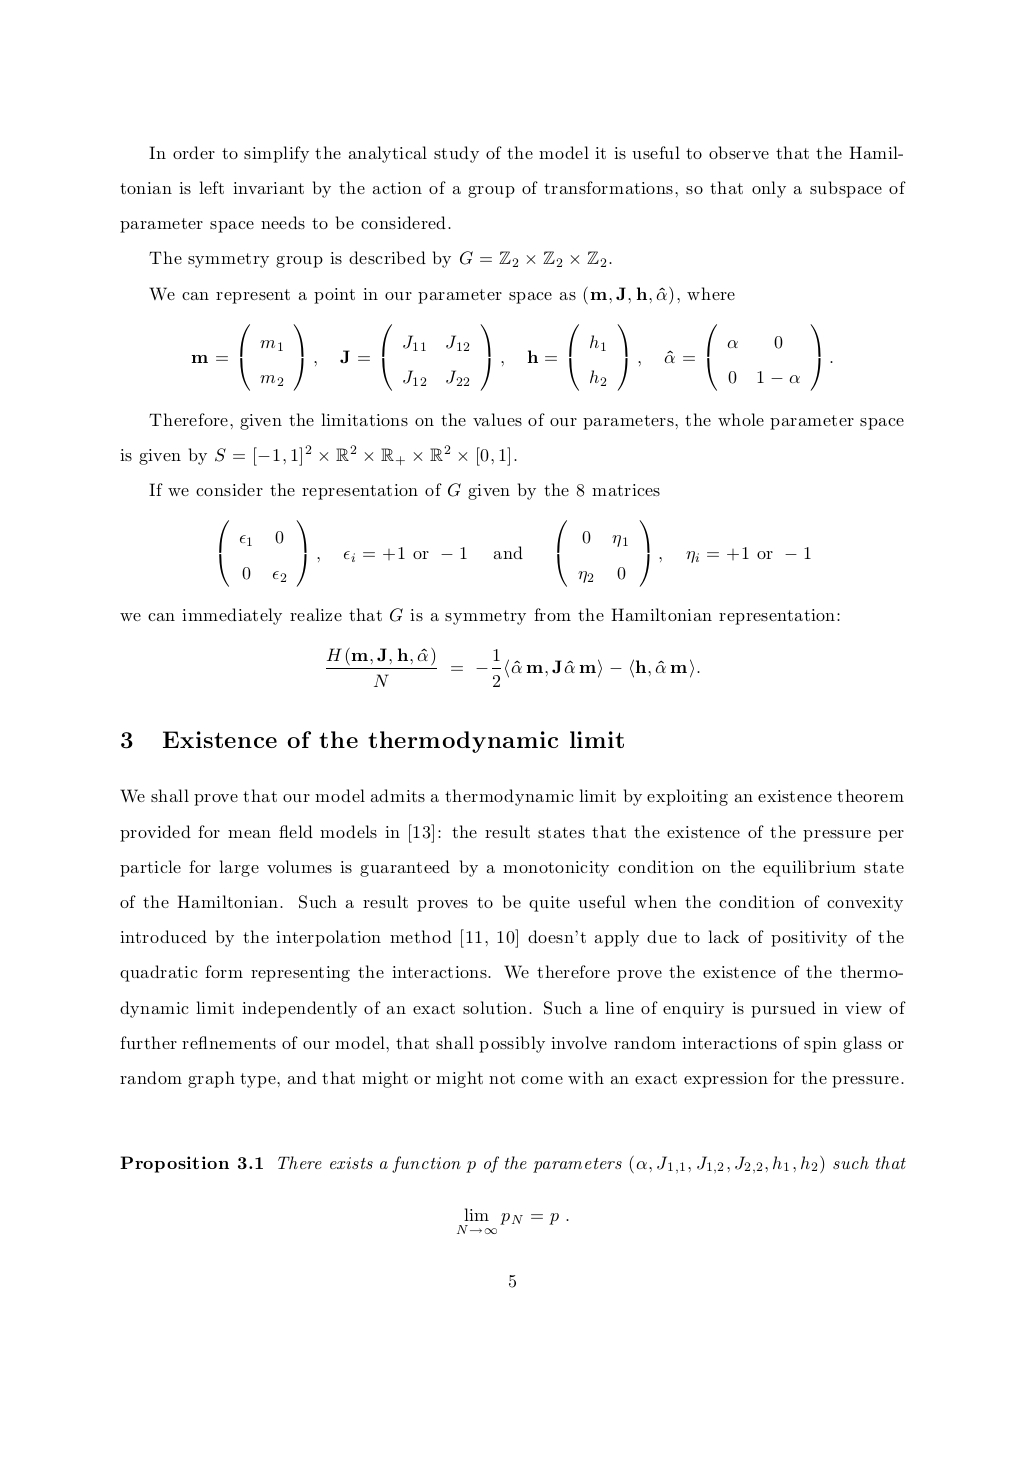formula: (191, 322, 832, 392), (219, 519, 810, 587), (326, 646, 698, 687), (456, 1207, 568, 1235)
